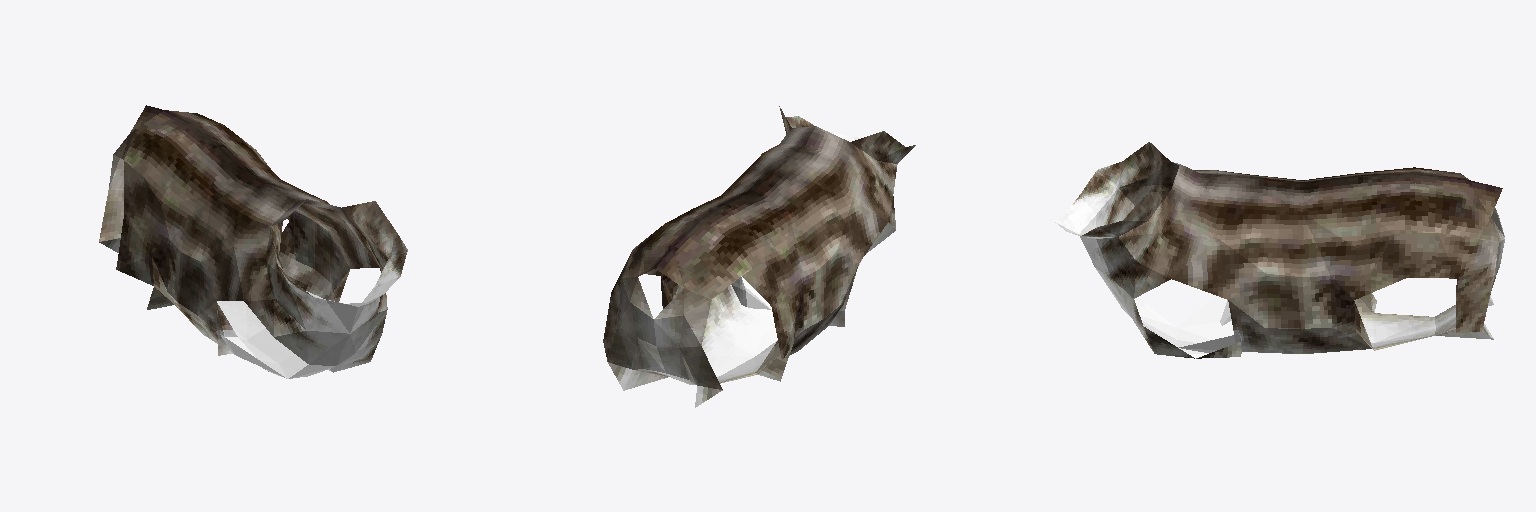
The picture shows the model from 3 angles: view 1: azimuth 30°, elevation 25°; view 2: azimuth 150°, elevation 25°; view 3: azimuth 270°, elevation 25°; orthographic projection.
Parts seen in each view (by area): view 1: vsn_mesh_2__mesh_2_.001; view 2: vsn_mesh_2__mesh_2_.001; view 3: vsn_mesh_2__mesh_2_.001.
Boxes of the visible parts, x1=… form: vsn_mesh_2__mesh_2_.001: x1=99, y1=105, x2=407, y2=378; vsn_mesh_2__mesh_2_.001: x1=603, y1=106, x2=915, y2=407; vsn_mesh_2__mesh_2_.001: x1=1055, y1=142, x2=1504, y2=358.
Size of the model in its own units: 1.35 by 1.56 by 3.43.
Materials: 2 (1 with a texture image).